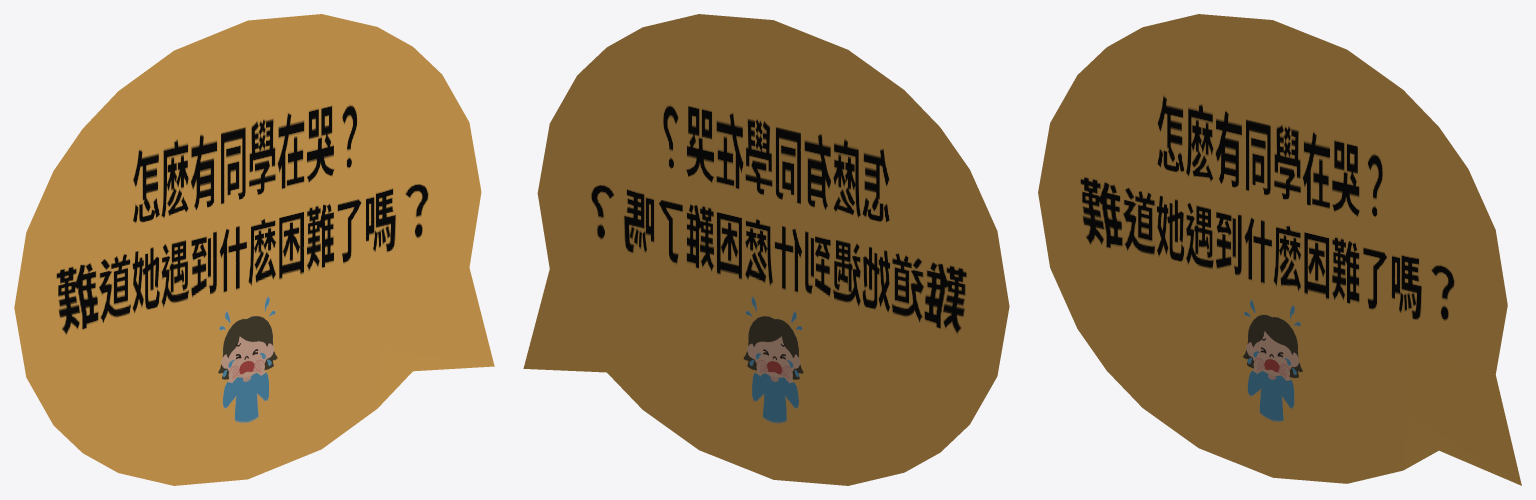
3 renders of one model, left to right at view 1: azimuth 30°, elevation 25°; view 2: azimuth 150°, elevation 25°; view 3: azimuth 330°, elevation 25°, orthographic.
Parts seen in each view (by area): view 1: 平面.003; view 2: 平面.003; view 3: 平面.003.
Boxes of the visible parts, <box> form: 平面.003: <box>14,14,494,485</box>; 平面.003: <box>523,14,1009,485</box>; 平面.003: <box>1038,14,1521,485</box>.
Size of the model in its own units: 30.25 by 27.47 by 0.2609.
Materials: 1 (1 with a texture image).
